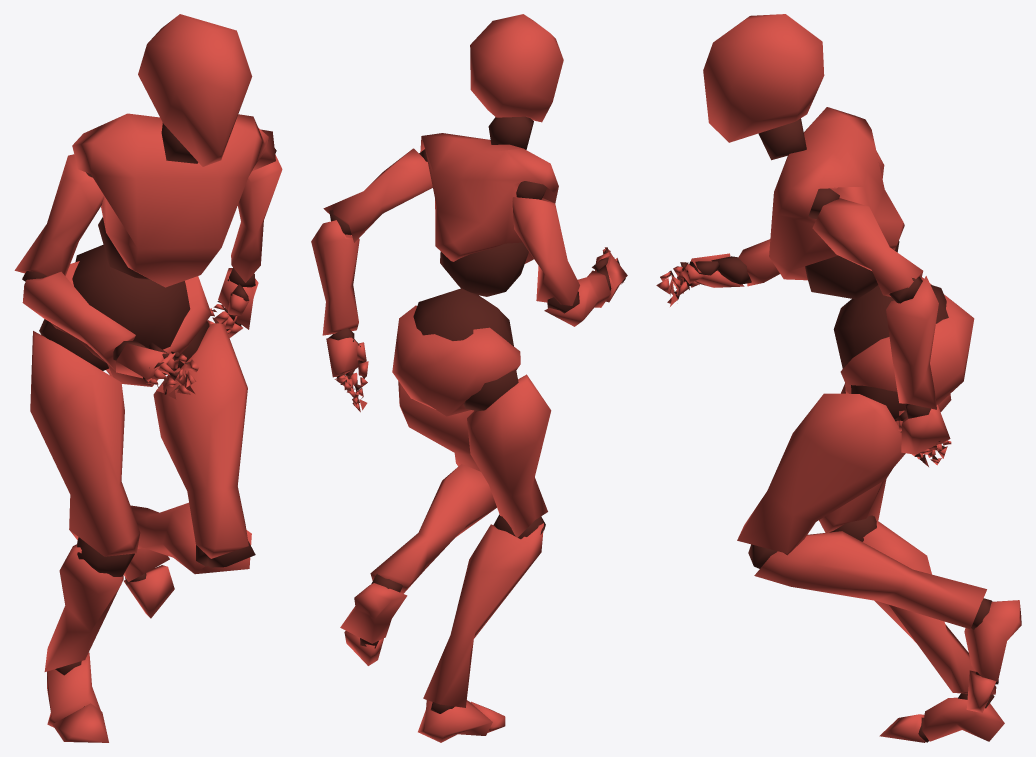
3 views of the same model, side by side, from view 1: azimuth 30°, elevation 25°; view 2: azimuth 150°, elevation 25°; view 3: azimuth 270°, elevation 25° (orthographic). The views are drawn at different scales.
Parts seen in each view (by area): view 1: Beta_Surface; view 2: Beta_Surface; view 3: Beta_Surface.
Part boxes in pixels (left/top/right/bottom): Beta_Surface: left=14, top=14, right=282, bottom=742; Beta_Surface: left=311, top=14, right=627, bottom=742; Beta_Surface: left=656, top=14, right=1021, bottom=742.
Size of the model in its own units: 5.56 by 14.33 by 6.43.
